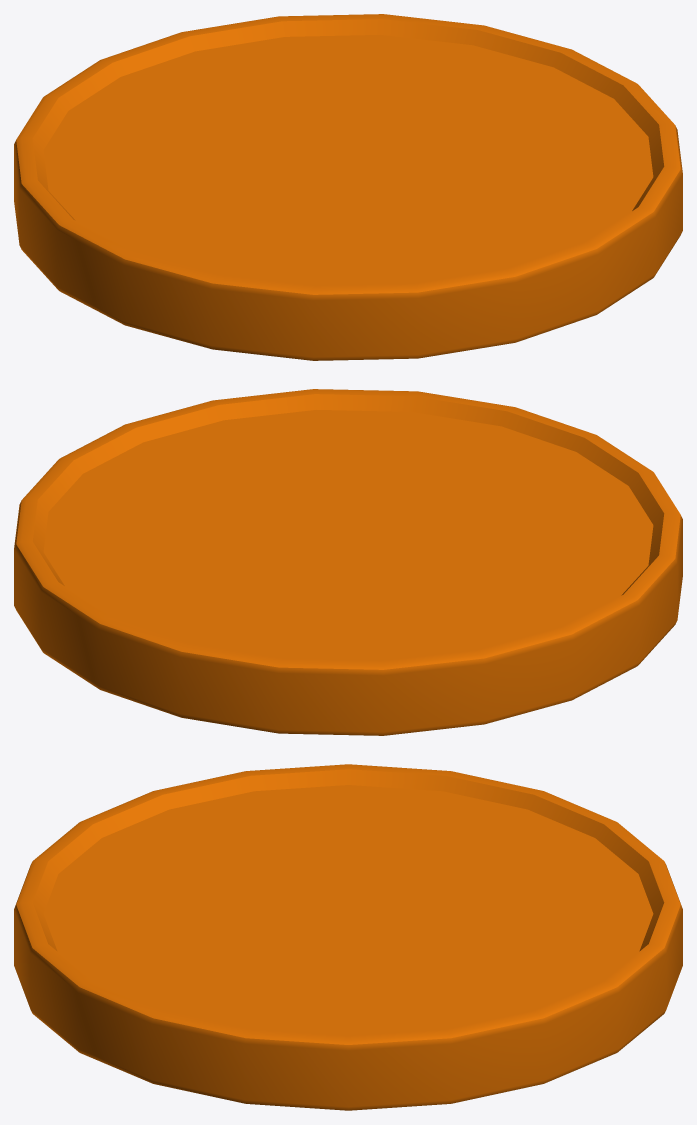
The model's file is Coincraft_Gold_Coin.fbx.
3 renders of one model, top to bottom at view 1: azimuth 30°, elevation 25°; view 2: azimuth 150°, elevation 25°; view 3: azimuth 270°, elevation 25°, orthographic.
Parts seen in each view (by area): view 1: Gold_Coin; view 2: Gold_Coin; view 3: Gold_Coin.
Part boxes in pixels (x1=…): Gold_Coin: x1=14, y1=14, x2=682, y2=360; Gold_Coin: x1=14, y1=389, x2=682, y2=735; Gold_Coin: x1=14, y1=764, x2=682, y2=1110.
Bounding box in the file's own units: 24.73 × 2.84 × 24.73.
